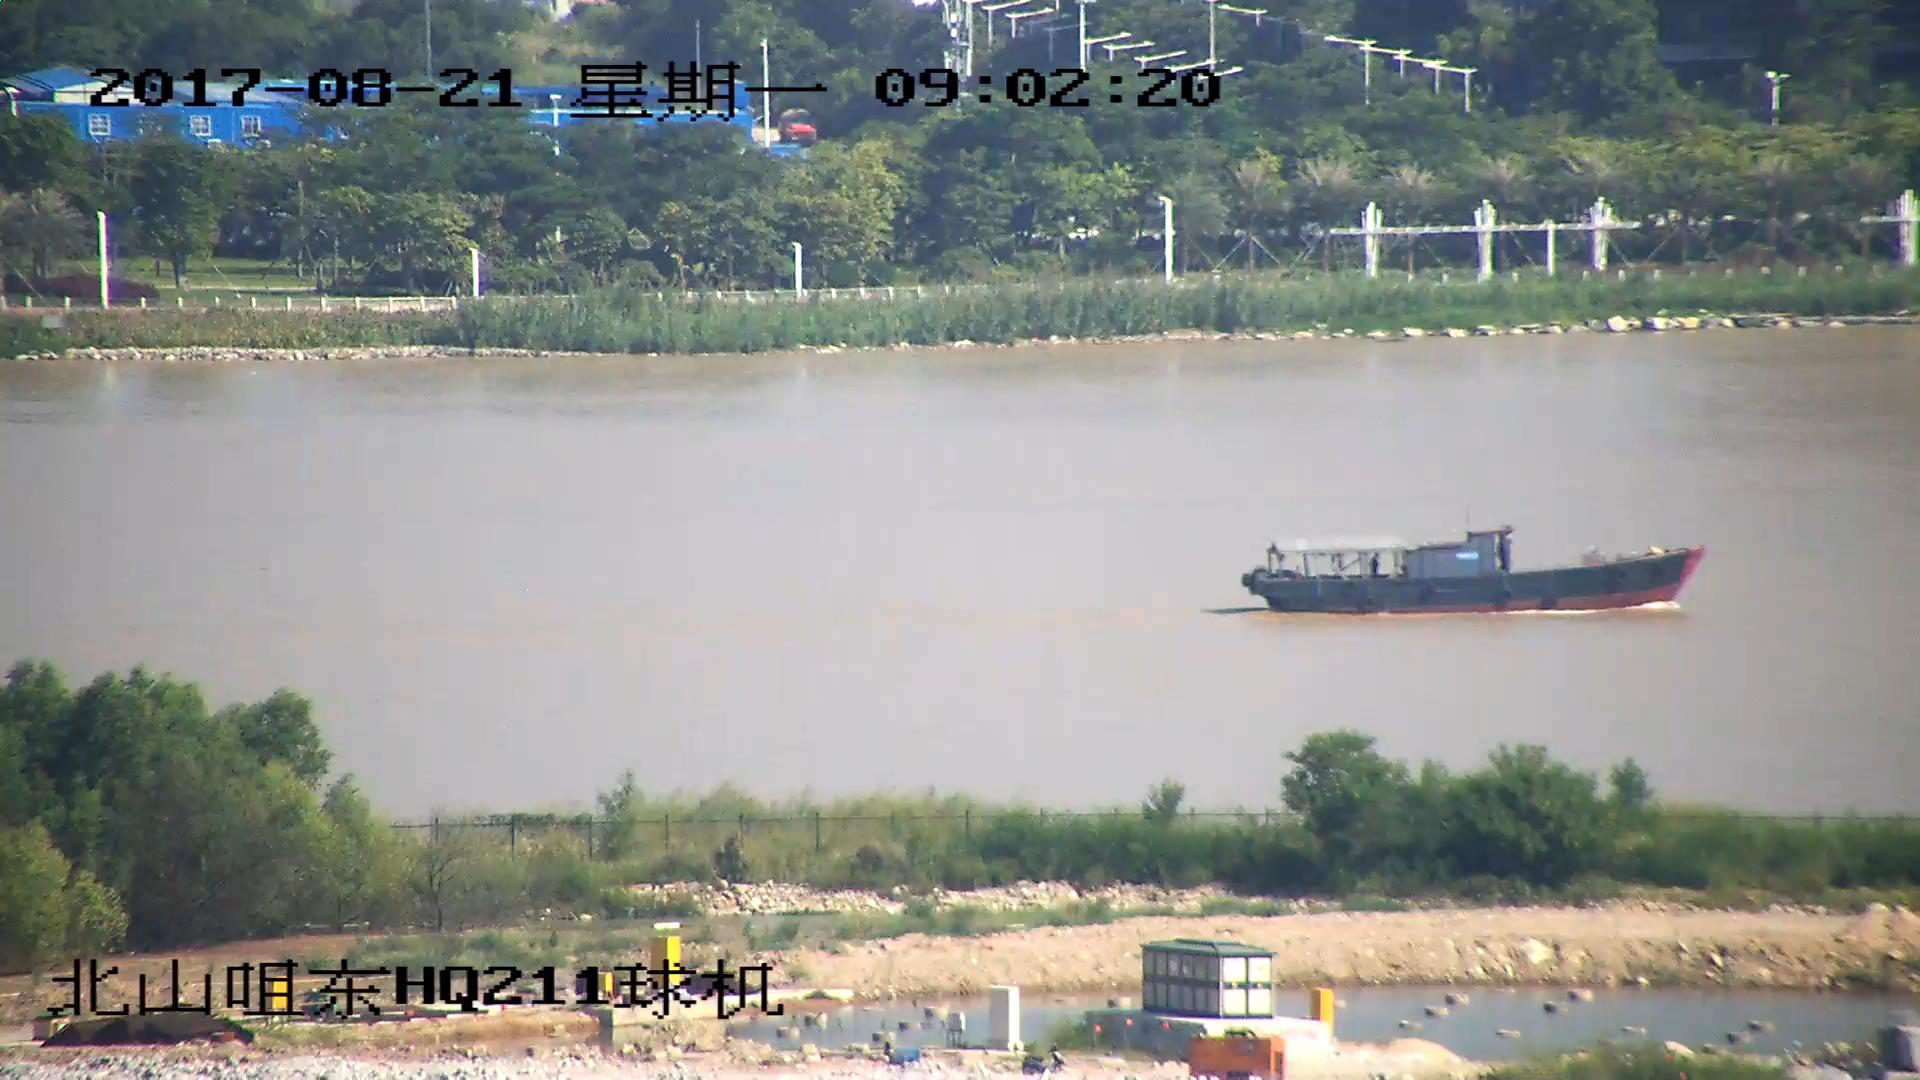fishing boat: (1237, 529, 1704, 615)
